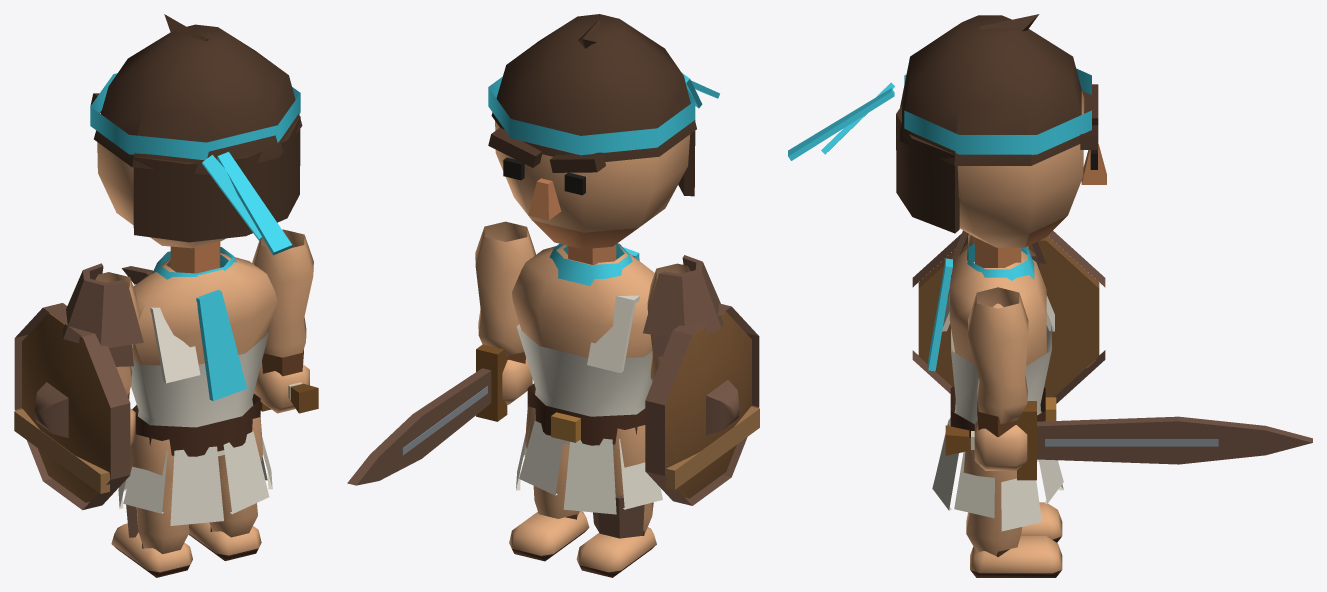
Rendered from CH_Nobody_V2.fbx.
The picture shows the model from 3 angles, left to right: view 1: azimuth 30°, elevation 25°; view 2: azimuth 150°, elevation 25°; view 3: azimuth 270°, elevation 25°; orthographic projection. The views are drawn at different scales.
Parts seen in each view (by area): view 1: Head, Body, Shield, ArmR, ArmL, LegL, LegR, Blade; view 2: Head, Body, Shield, Blade, ArmR, LegL, ArmL, LegR; view 3: Head, Body, Blade, Shield, ArmR, LegR, LegL.
Part boxes in pixels (x1,y1,x2,y2): Head: (90,14,302,273); Body: (118,247,277,525); Shield: (14,303,130,510); ArmR: (252,229,313,413); ArmL: (62,263,143,445); LegL: (111,434,192,577); LegR: (188,415,262,560); Blade: (122,266,318,413); Head: (488,14,719,264); Body: (512,243,662,514); Shield: (645,303,759,505); Blade: (347,344,507,485); ArmR: (475,221,535,404); LegL: (576,425,656,577); ArmL: (643,255,722,381); LegR: (509,405,589,561); Head: (788,14,1106,267); Body: (928,243,1063,531); Blade: (945,401,1312,480); Shield: (912,231,1105,403); ArmR: (968,287,1028,470); LegR: (963,437,1062,577); LegL: (1021,502,1062,542).
Bounding box in the file's own units: 0.87 × 1.45 × 1.63.
